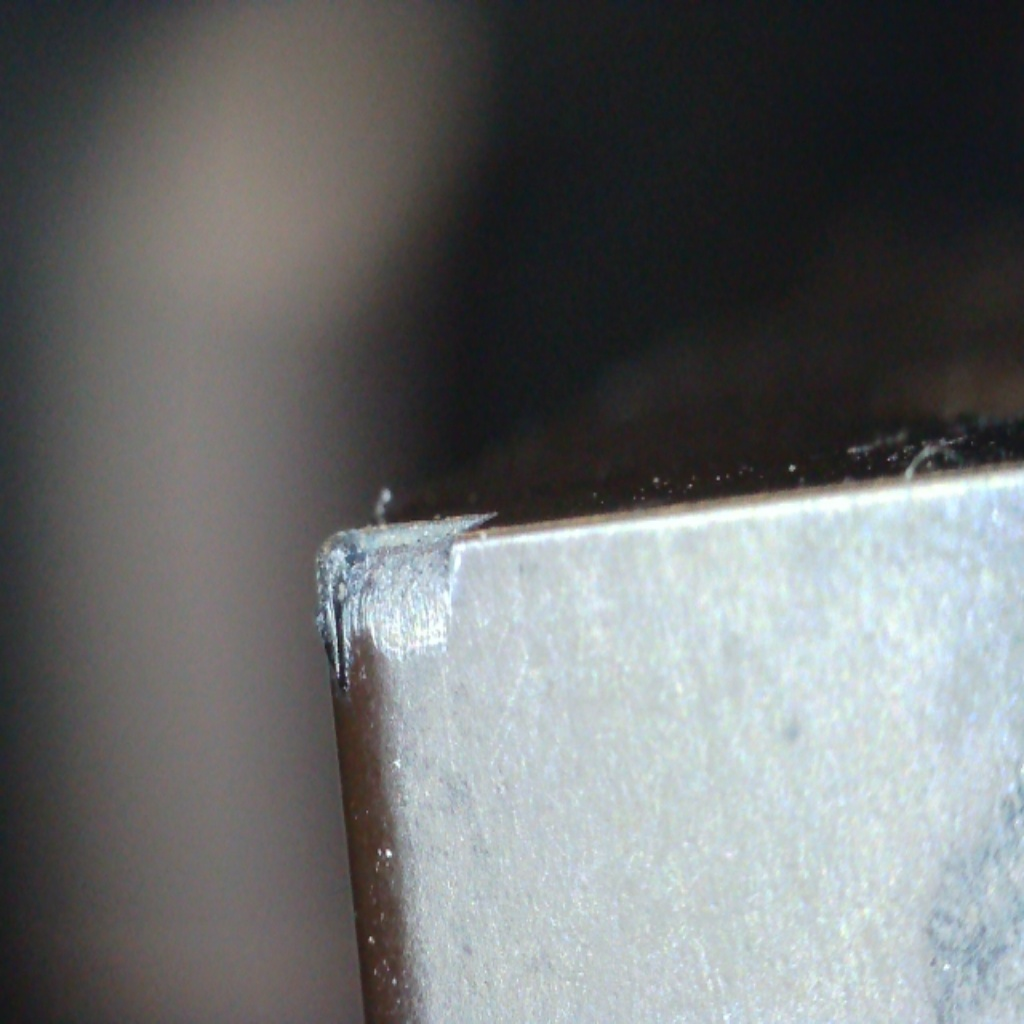flank_wear: (329, 557, 358, 697)
